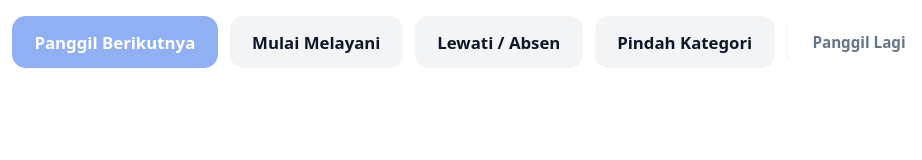
Scenario: ActionControls (FR-CLR-02 / QUE-20) › disables the other buttons while a command is in flight (no silent taps)
The width and height of the screenshot is (922, 160).
Click the button with test id "action-status-SERVING" at (316, 42), box [230, 16, 403, 68]
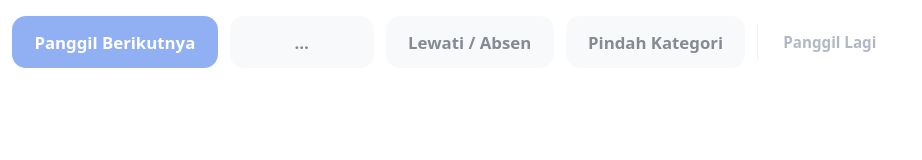
Now the button with test id "action-status-SKIPPED" is disabled
Now the button with test id "action-reannounce" is disabled, box [770, 24, 889, 60]
Click the button with test id "action-status-SKIPPED" at (470, 42), box [386, 16, 554, 68]
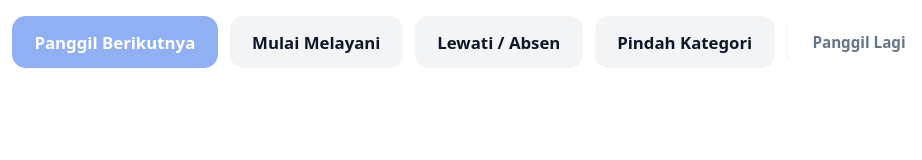
Now the button with test id "action-status-SKIPPED" is enabled, box [415, 16, 583, 68]
